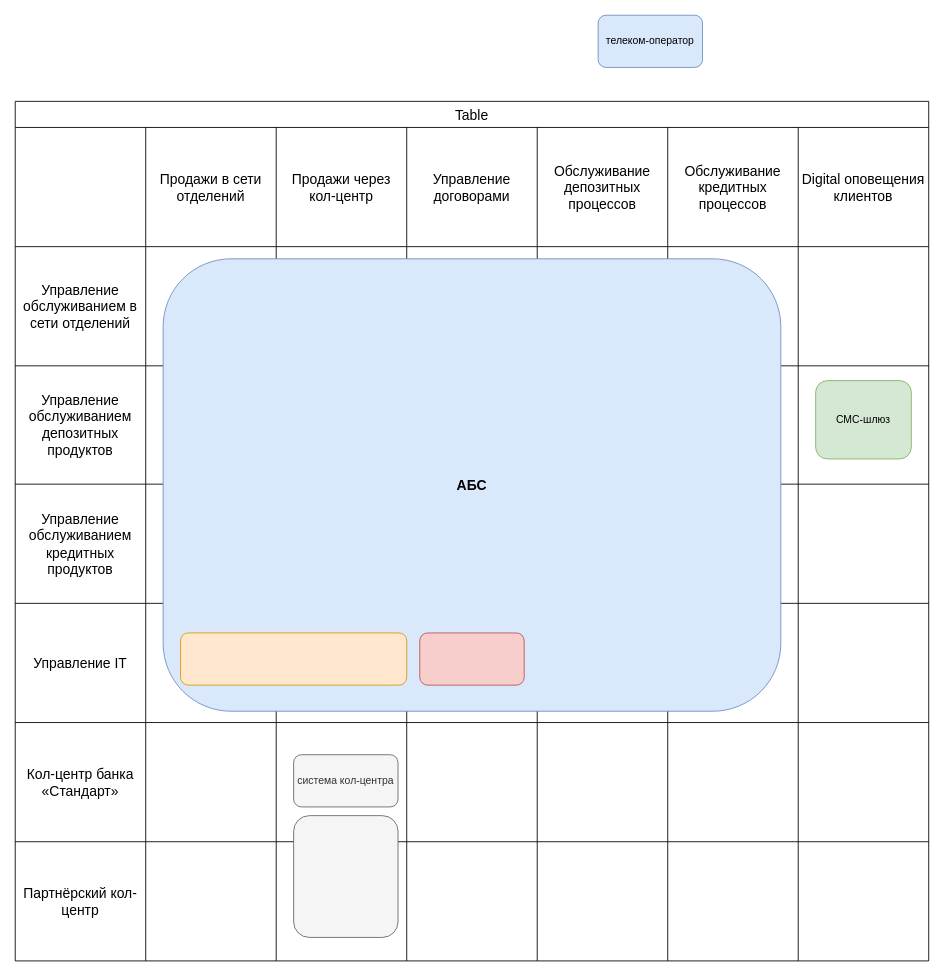
This 944x976 diagram has some shape labels left out. Here are the shapes that lost their labels. From the top down, the centre of each, then its label:
At (x=293, y=658): "Сайт".
At (x=471, y=658): "интернет-банк".
At (x=345, y=876): "система партнерский кол-центр".
